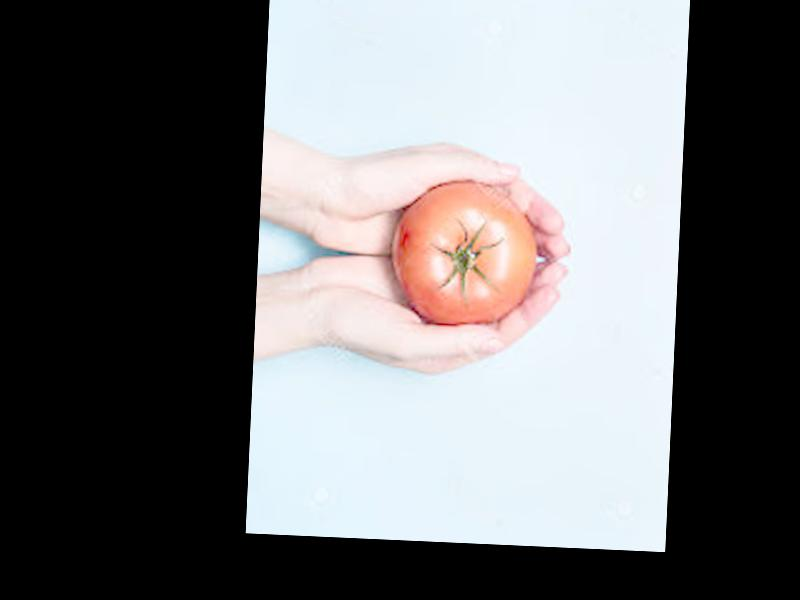Tomato: (390, 178, 539, 332)
